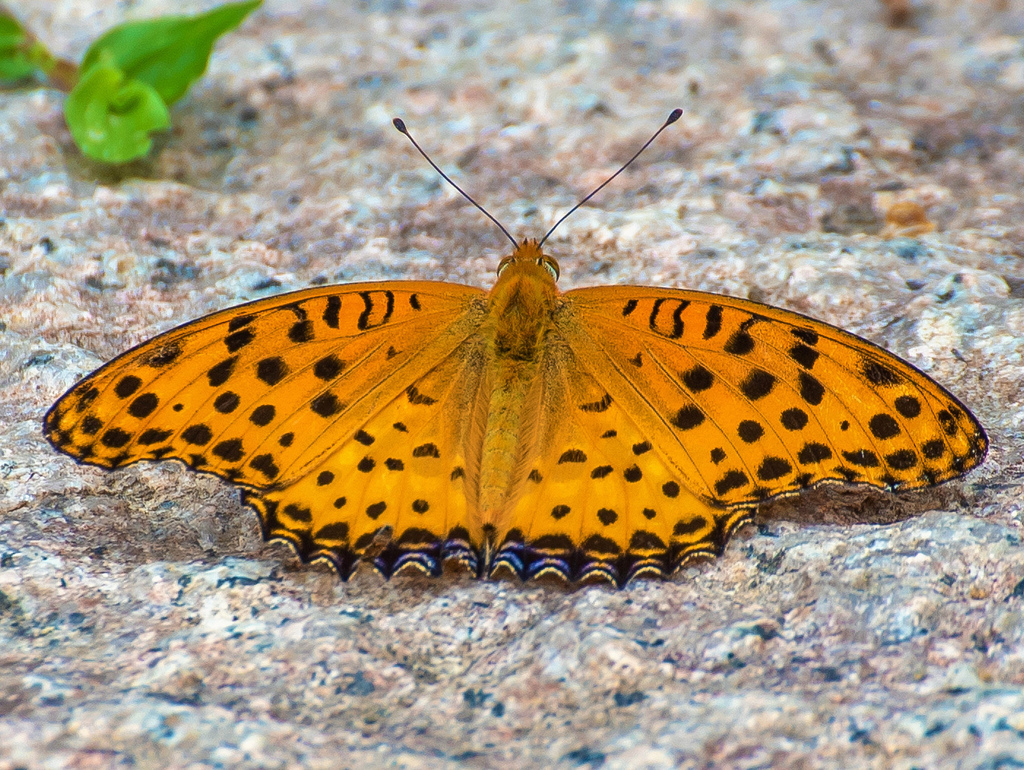Argyreus hyperbius: (33, 94, 995, 588)
butterfly: (35, 96, 997, 590)
